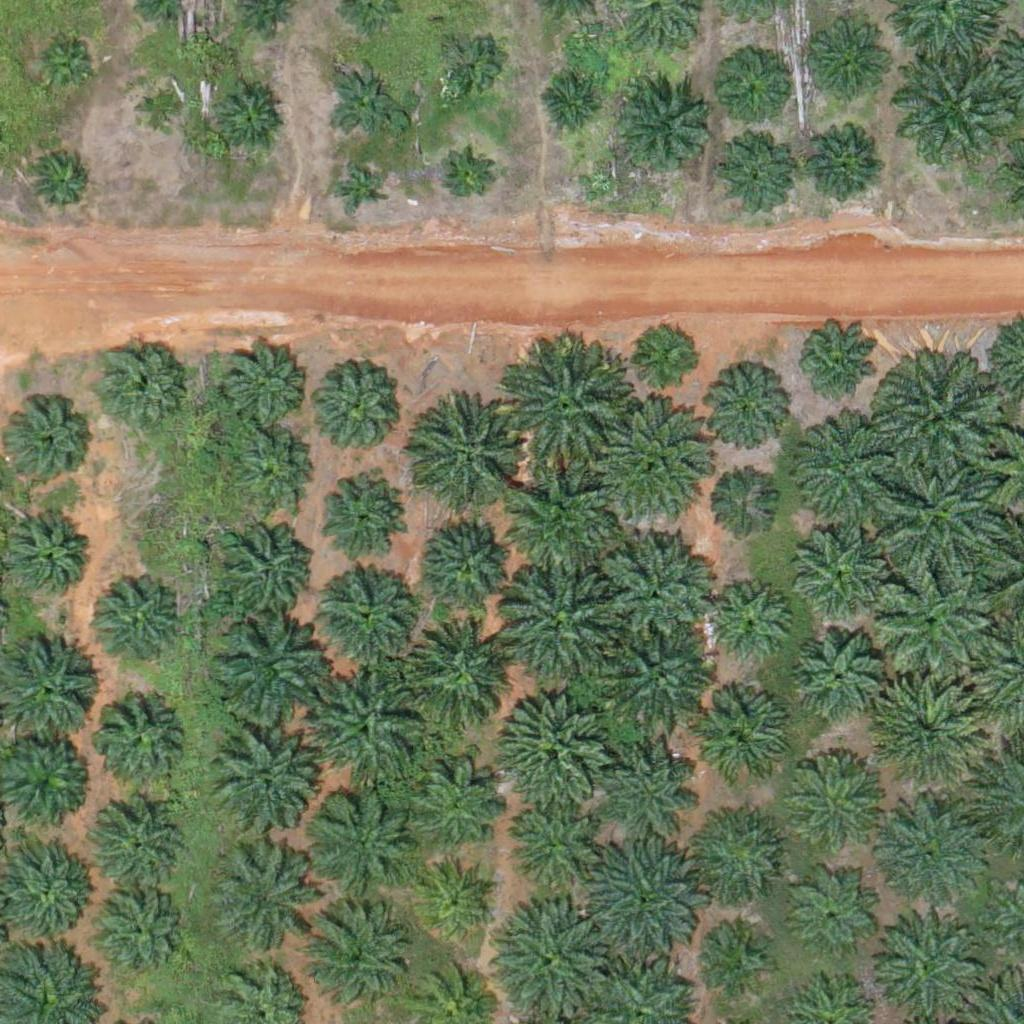Kelapa_Sawit: (874, 355, 999, 481), (504, 350, 629, 476), (878, 449, 1003, 574), (868, 677, 981, 791), (604, 405, 717, 519), (400, 618, 513, 732), (879, 562, 992, 675), (793, 410, 906, 523), (586, 840, 699, 953), (507, 468, 620, 581), (498, 569, 611, 682), (495, 689, 608, 802), (393, 749, 506, 862), (895, 47, 1008, 160), (503, 907, 615, 1021), (305, 783, 417, 897), (302, 899, 414, 1013), (211, 615, 323, 729), (870, 800, 982, 913), (604, 620, 716, 733), (599, 533, 711, 646), (310, 674, 422, 787), (602, 727, 702, 828), (422, 511, 522, 612), (306, 355, 406, 456), (206, 847, 306, 948), (82, 575, 182, 676), (87, 796, 187, 897), (88, 885, 188, 986), (611, 78, 711, 179), (691, 689, 791, 789), (417, 409, 517, 509), (319, 565, 419, 665), (210, 734, 310, 834), (215, 518, 315, 618), (91, 690, 191, 790), (701, 367, 789, 456), (412, 857, 500, 945), (792, 525, 880, 613), (702, 579, 790, 667), (501, 803, 589, 891), (313, 471, 401, 559), (95, 340, 183, 428), (793, 321, 880, 409), (795, 755, 882, 843), (794, 629, 881, 717), (696, 810, 783, 898), (233, 426, 320, 514), (221, 343, 308, 431), (8, 400, 95, 488), (800, 16, 887, 104), (703, 472, 778, 548), (798, 881, 873, 957), (808, 132, 883, 208), (719, 136, 794, 212), (211, 80, 286, 155), (327, 62, 402, 137), (716, 59, 779, 122), (32, 150, 95, 213), (540, 77, 603, 140), (637, 324, 700, 387), (435, 32, 498, 95), (705, 929, 768, 992), (32, 32, 95, 95), (441, 154, 491, 205), (334, 163, 384, 214), (136, 85, 186, 135)
